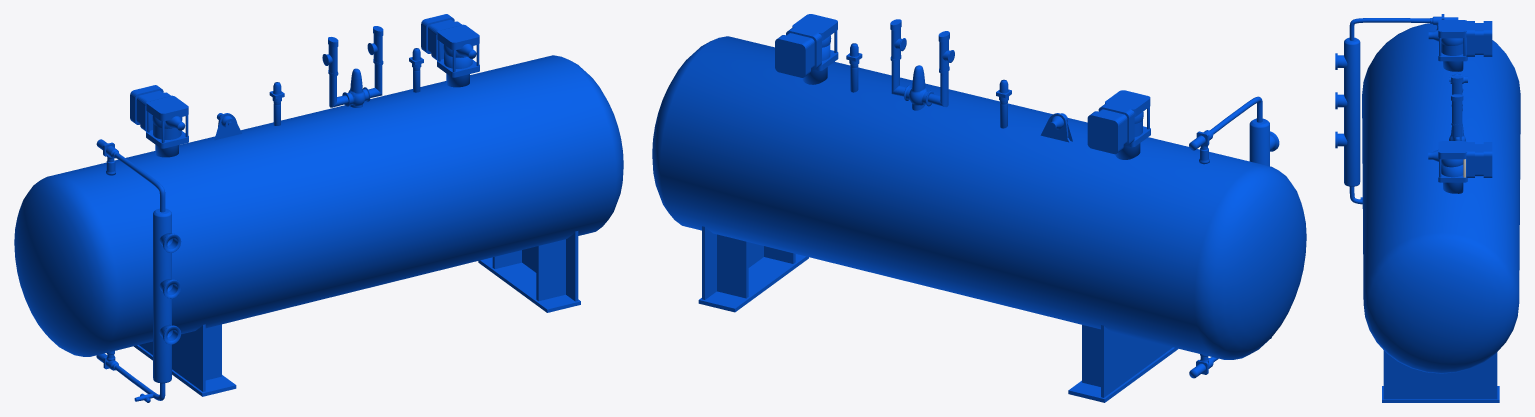
Rendered from рес.амм.fbx.
3 views of the same model, side by side, from view 1: azimuth 30°, elevation 25°; view 2: azimuth 150°, elevation 25°; view 3: azimuth 270°, elevation 25° (orthographic). The views are drawn at different scales.
Parts seen in each view (by area): view 1: Sphere.002, Cylinder.017, Cube.014, Cube.012, Cube.011, Cube.010, Cube.002, Cube.005, Cube.017, Cube.001, Cube.004, Cube.015 (+3 smaller); view 2: Sphere.002, Cube.014, Cube.002, Cube.005, Cube.011, Cube.013, Cube.010, Cube.016, Cube.015, Cylinder.017, Sphere.022, Cube.001 (+1 smaller); view 3: Sphere.002, Cube.010, Cylinder.017, Cube.005, Cube.002, Cube.004, Cube.001, Cube.011, BezierCurve, Cylinder.006, Cylinder, Sphere.024 (+3 smaller).
Boxes of the visible parts, x1,y1,x2,y2 form: Sphere.002: (14,55,623,356); Cylinder.017: (153,208,171,383); Cube.014: (139,324,205,391); Cube.012: (536,239,565,301); Cube.011: (478,257,580,312); Cube.010: (522,231,578,301); Cube.002: (130,85,170,131); Cube.005: (421,14,461,60); Cube.017: (205,324,221,380); Cube.001: (146,95,188,121); Cube.004: (437,24,479,50); Cube.015: (134,345,236,396); Sphere.002: (652,36,1306,359); Cube.014: (1101,325,1172,397); Cube.002: (1087,103,1134,154); Cube.005: (775,27,821,77); Cube.011: (698,254,808,312); Cube.013: (717,234,748,298); Cube.010: (702,226,763,299); Cube.016: (1082,325,1100,386); Cube.015: (1068,347,1178,402); Cylinder.017: (1249,118,1269,166); Sphere.022: (904,65,933,110); Cube.001: (1105,90,1150,116); Sphere.002: (1362,23,1520,373); Cube.010: (1383,350,1497,399); Cylinder.017: (1344,37,1360,186); Cube.005: (1466,142,1492,177); Cube.002: (1466,21,1492,56); Cube.004: (1438,141,1466,159); Cube.001: (1438,20,1466,38); Cube.011: (1382,386,1499,402); BezierCurve: (1349,18,1430,40); Cylinder.006: (1441,164,1463,193); Cylinder: (1441,43,1463,71); Sphere.024: (1451,94,1463,126).
Bounding box in the file's own units: 715 × 342 × 238.
